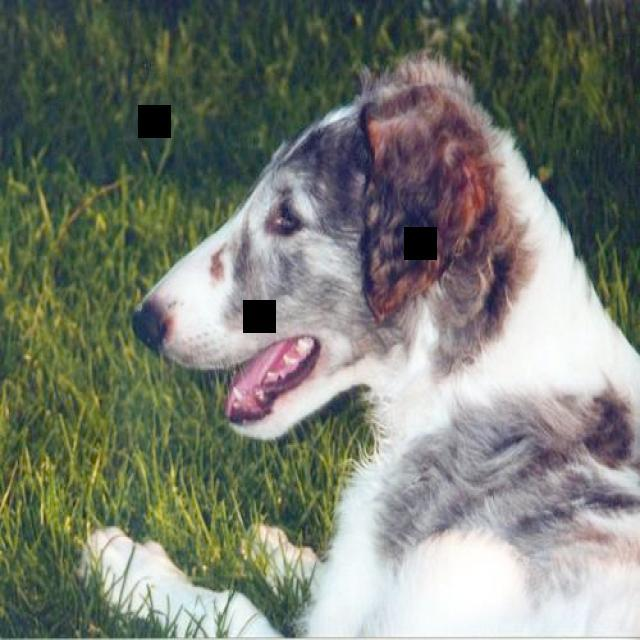puppy-dog: (75, 51, 640, 640)
